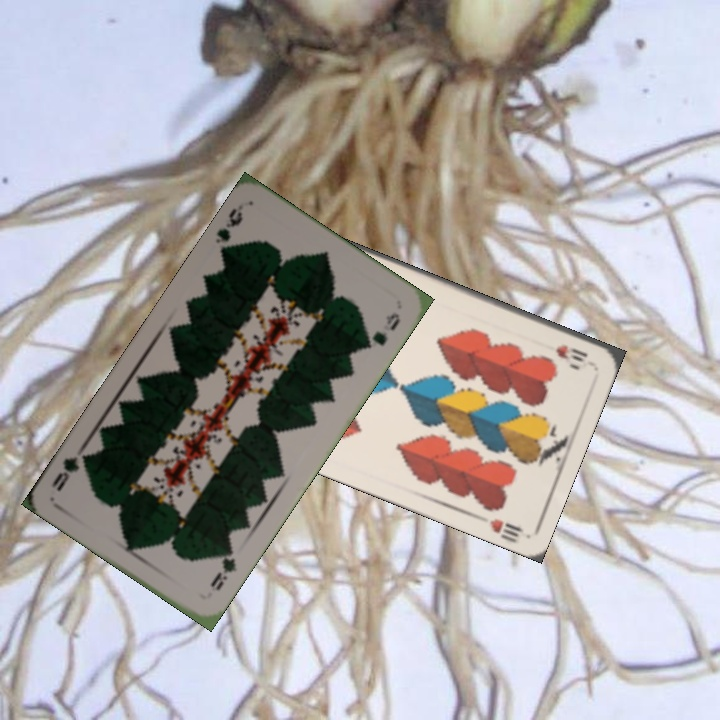G9: (211, 204, 246, 257), (206, 542, 240, 593)
H10: (551, 340, 591, 365)
